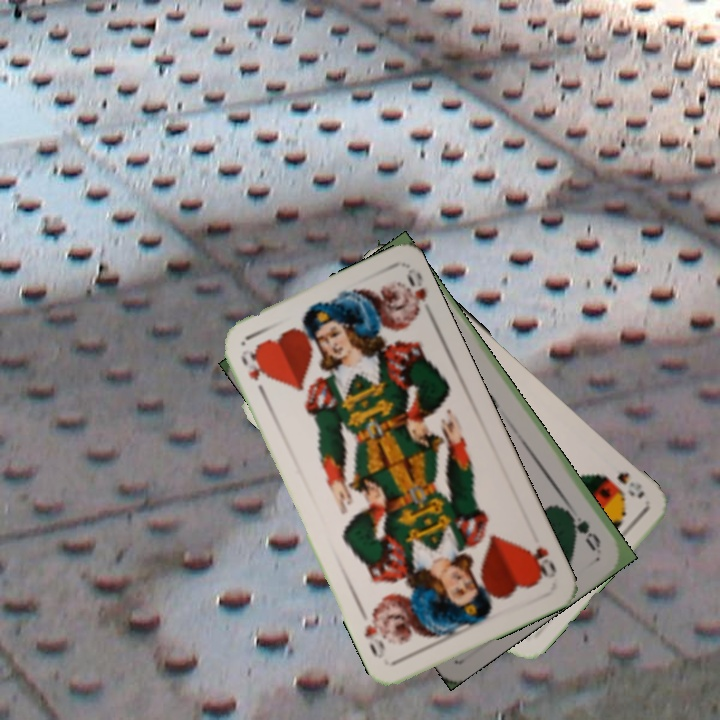GO: (560, 505, 604, 553)
HO: (236, 345, 269, 400), (523, 543, 560, 581)
SO: (613, 468, 648, 502)
